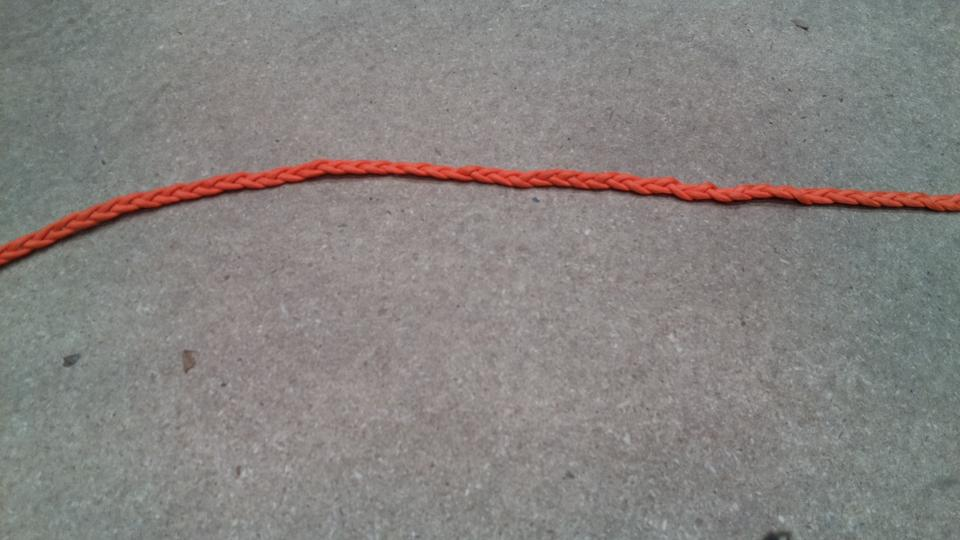rope: (1, 153, 954, 275)
